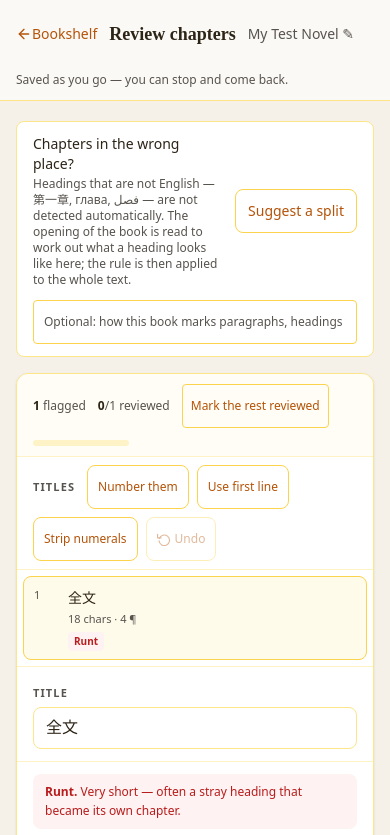
Scenario: discarding a proposal leaves the draft alone
Click the button with test id "suggest-split-btn".
click(296, 211)  # box [235,189,357,233]
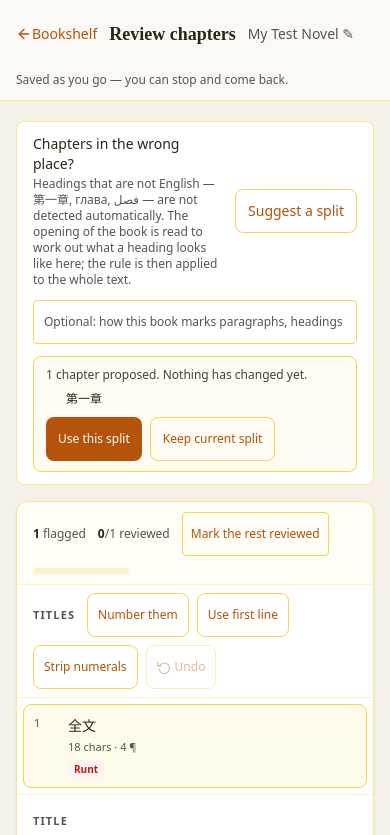
Expected: the element with test id "split-proposal" is shown, [33,356,357,472]
"Discard" already means discarding the whole upload on this page
Click the button with test id "dismiss-split-btn".
click(213, 439)  # box [150,417,275,461]
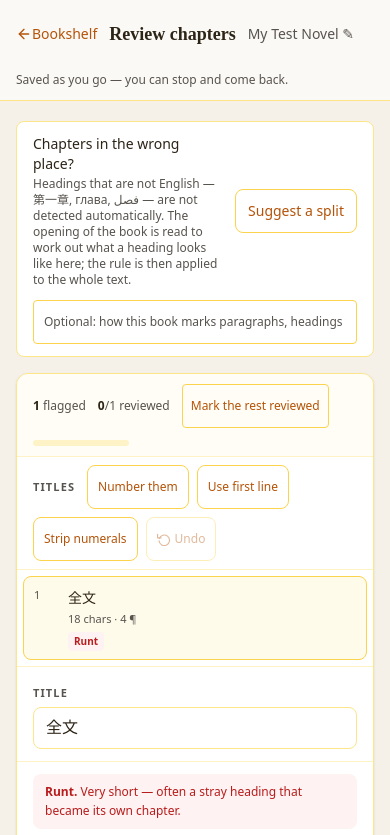
Expected: the element with test id "split-proposal" is gone
